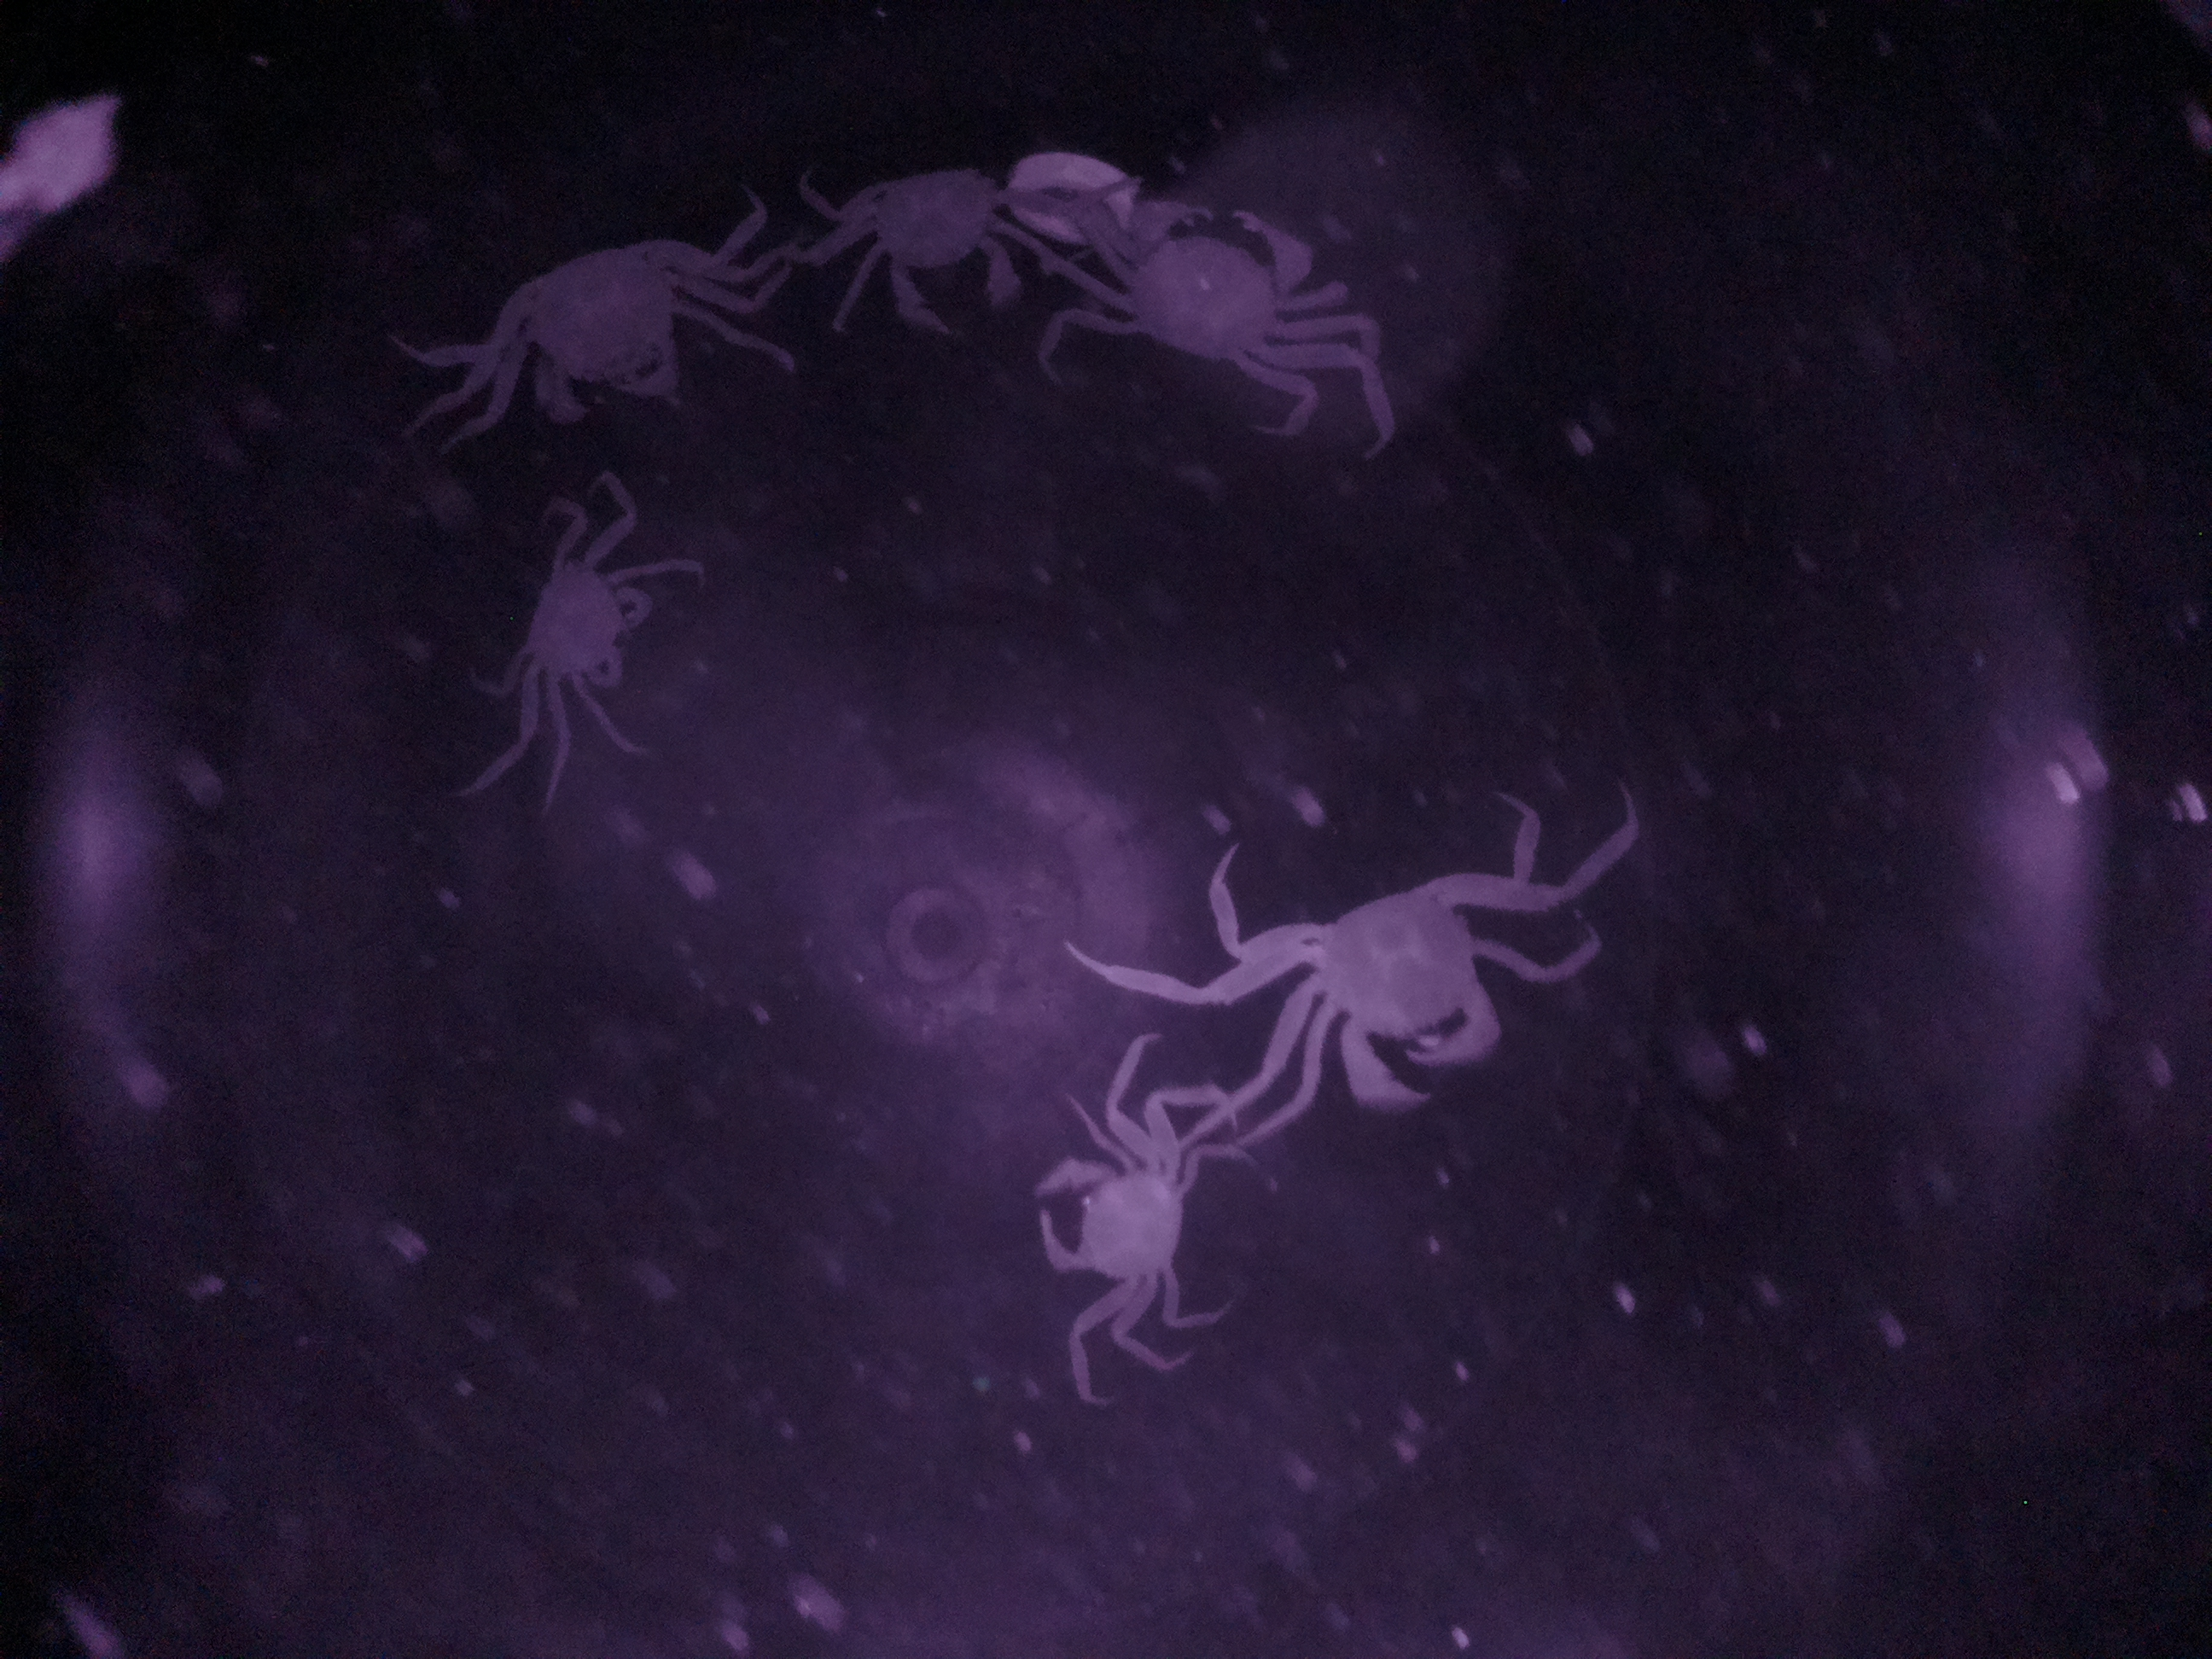Crab: (1254, 852, 1548, 1119), (1057, 155, 1332, 401), (474, 223, 718, 443), (1021, 1101, 1214, 1317), (826, 150, 1029, 343), (479, 521, 660, 702)
